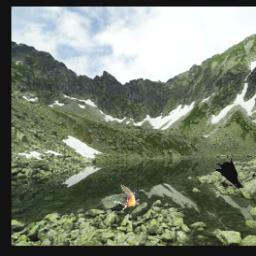Crow: (215, 153, 244, 190)
Swallow: (115, 184, 140, 211)
